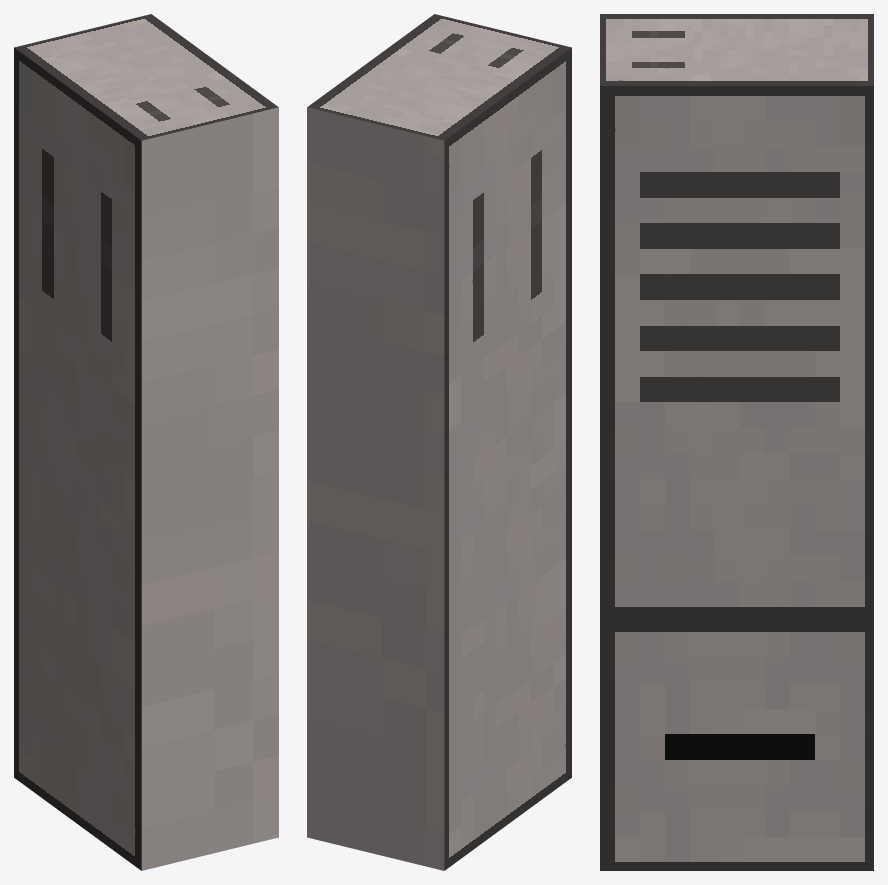
The model's file is BLOCKYGON_SCHOOL DRAWER SMALL.fbx.
3 renders of one model, left to right at view 1: azimuth 30°, elevation 25°; view 2: azimuth 150°, elevation 25°; view 3: azimuth 270°, elevation 25°, orthographic. The views are drawn at different scales.
Parts seen in each view (by area): view 1: BLOCKYGON_SCHOOL_DRAWER_SMALL; view 2: BLOCKYGON_SCHOOL_DRAWER_SMALL; view 3: BLOCKYGON_SCHOOL_DRAWER_SMALL.
Part boxes in pixels (left/top/right/bottom): BLOCKYGON_SCHOOL_DRAWER_SMALL: left=14, top=14, right=278, bottom=870; BLOCKYGON_SCHOOL_DRAWER_SMALL: left=307, top=14, right=571, bottom=870; BLOCKYGON_SCHOOL_DRAWER_SMALL: left=600, top=14, right=873, bottom=870.
Bounding box in the file's own units: 36.42 × 185 × 58.57.
